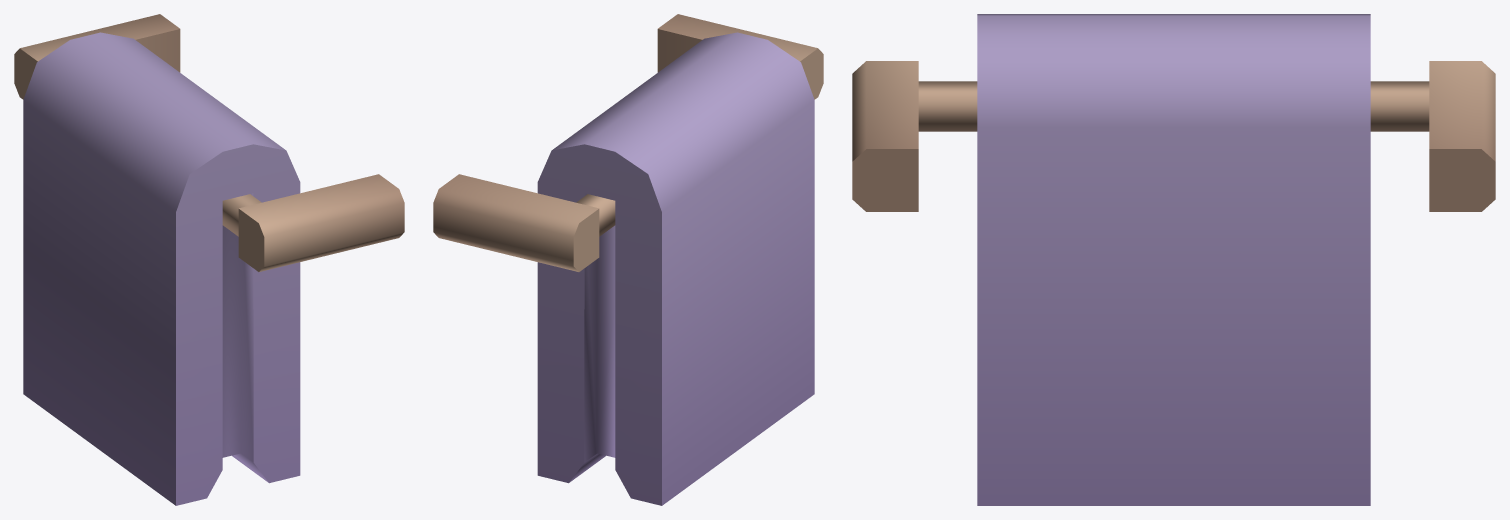
Rendered from towel-rack-towel-small (%wall).glb.
The picture shows the model from 3 angles, left to right: view 1: azimuth 30°, elevation 25°; view 2: azimuth 150°, elevation 25°; view 3: azimuth 270°, elevation 25°; orthographic projection. The views are drawn at different scales.
Visible parts, largest first — view 1: towel-rack-towel-small (%wall); view 2: towel-rack-towel-small (%wall); view 3: towel-rack-towel-small (%wall).
Boxes of the visible parts, x1,y1,x2,y2 form: towel-rack-towel-small (%wall): (14,14,404,505); towel-rack-towel-small (%wall): (433,14,823,505); towel-rack-towel-small (%wall): (852,14,1495,505).
Size of the model in its own units: 0.1924 by 0.35 by 0.4625.
